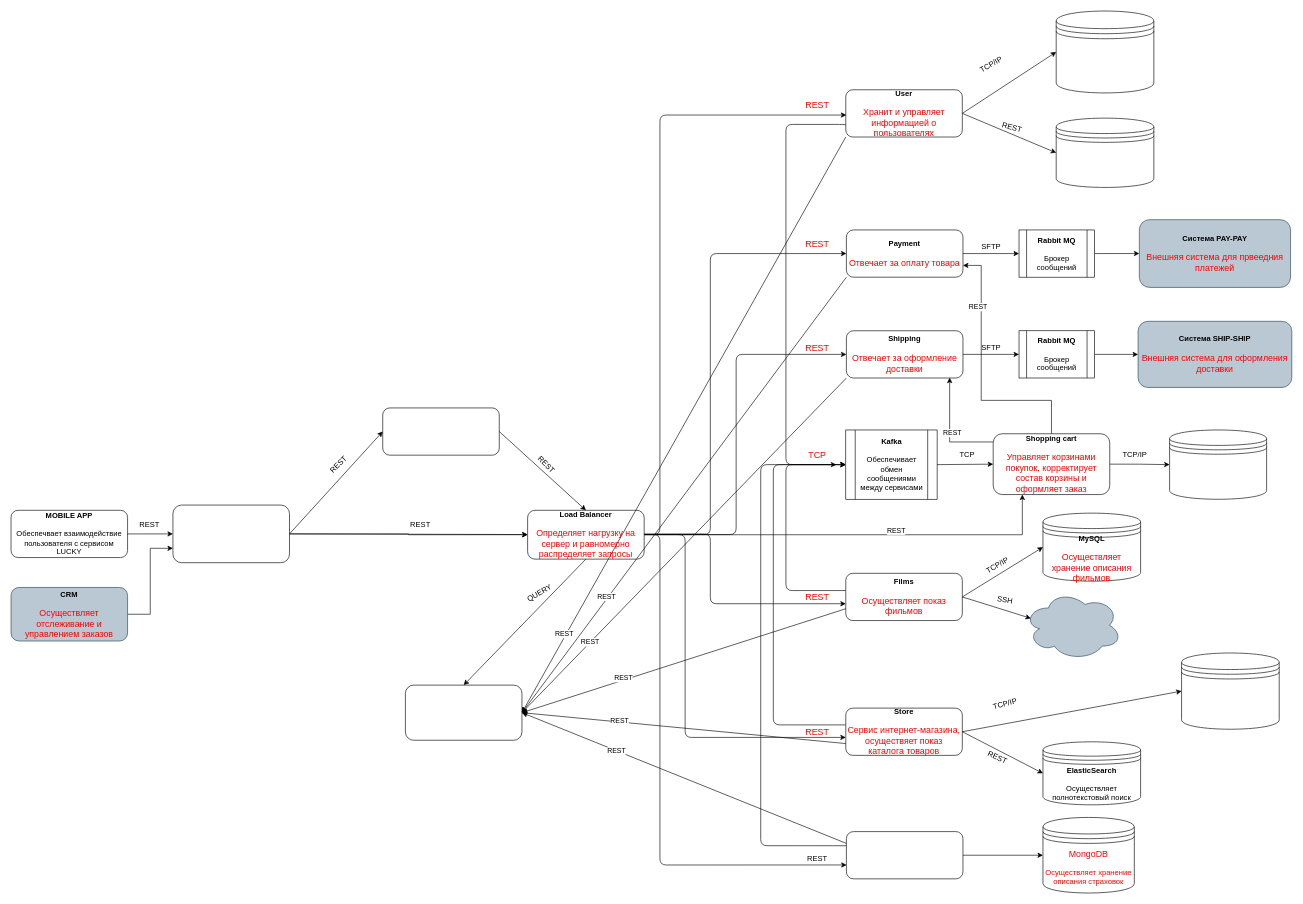
The diagram is 1303 pixels wide and 904 high, and some of its shapes have lost their labels. Here are the shapes that lost their labels. From the top down, the centre of each, then its label:
the point at 1105,51: MySQL Хранит данные о пользователях
the point at 1105,152: Redis Обеспечивает кэширование
the point at 440,431: AuthServer Осуществляет авторизацию пользователей в сервисе LUCKY
the point at 1218,464: MySQL Хранит список заказов
the point at 230,533: API Gateway Централизованная точка входа для взаимедсвтия клиента и сервера
the point at 1072,625: Amazon S3 Хранит медиафайлы
the point at 1230,690: MySQL Осуществляет зранение данных о товара
the point at 463,712: Service Registry Хранит информацию о доступных инстансах серввисов
the point at 904,855: Insurance Сервис который отвечает за страховки на животных
